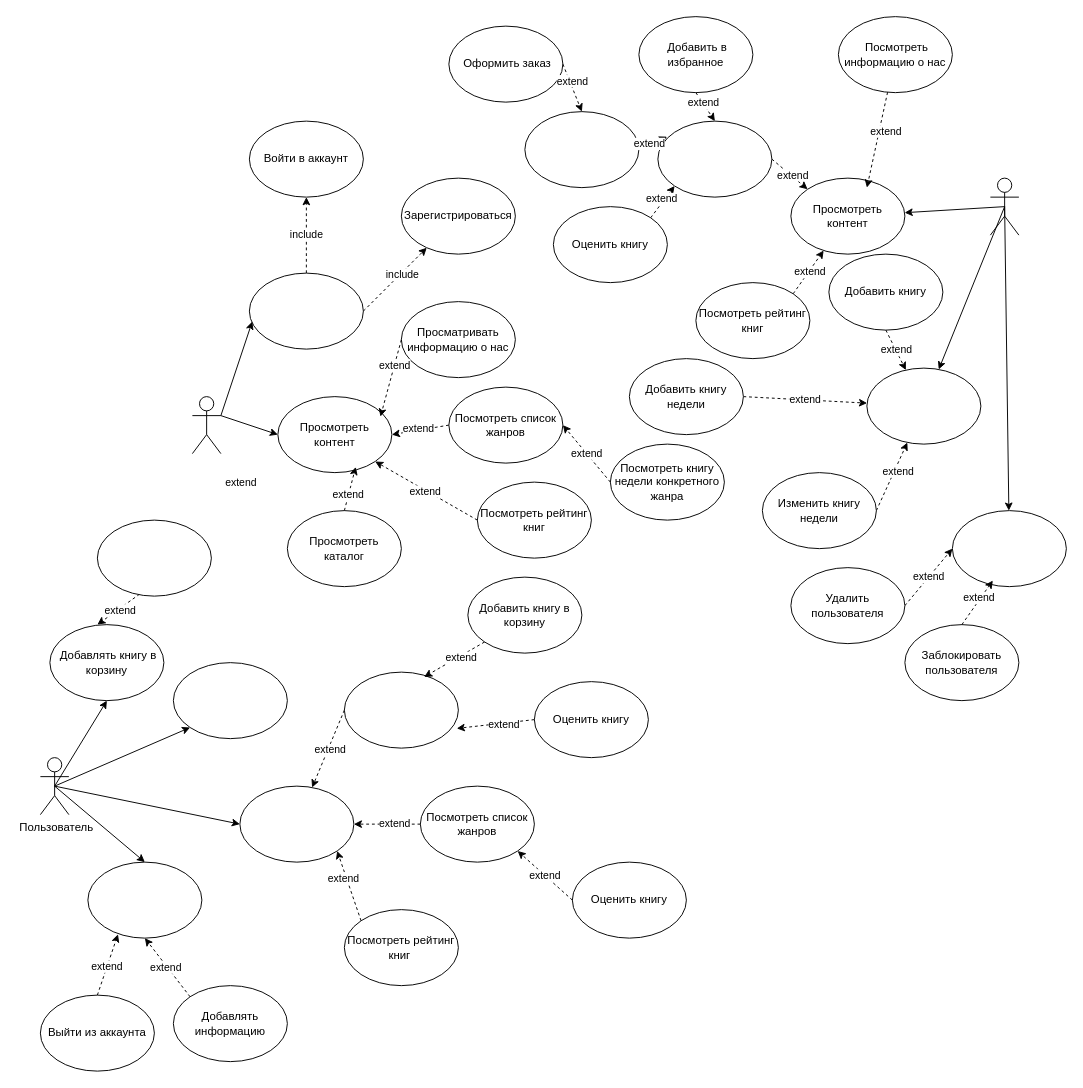
The diagram is 1083 pixels wide and 1088 high, and some of its shapes have lost their labels. The shapes that lost their labels are listed below. From the top down, each one's centre as x and y in pixels, then its label:
[581,149]: Добавить в корзину
[714,158]: Выбрать книги
[1004,206]: Администратор
[305,310]: Авторизироваться
[206,425]: Гость
[923,405]: Управление книгами
[153,557]: Оформлять заказ
[1008,548]: Управлять пользователями
[229,700]: Добавить книгу в избранное
[400,709]: Выбрать какую-либо книгу
[296,823]: Просмотреть книги
[144,899]: Управлять аккаунтом
